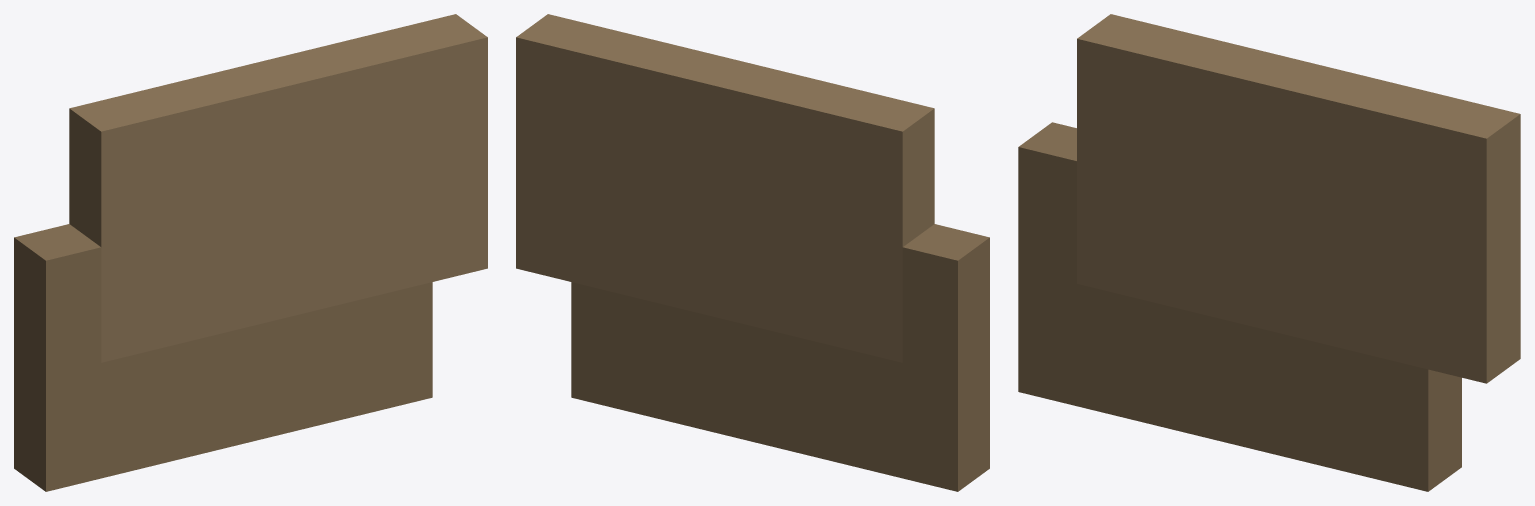
File: viga_vista_roble_grande_01.glb
The picture shows the model from 3 angles, left to right: view 1: azimuth 30°, elevation 25°; view 2: azimuth 150°, elevation 25°; view 3: azimuth 330°, elevation 25°; orthographic projection. The views are drawn at different scales.
Visible parts, largest first — view 1: viga_vista_roble_grande; view 2: viga_vista_roble_grande; view 3: viga_vista_roble_grande.
Part boxes in pixels (x1=…): viga_vista_roble_grande: x1=14, y1=14, x2=487, y2=491; viga_vista_roble_grande: x1=516, y1=14, x2=989, y2=491; viga_vista_roble_grande: x1=1018, y1=14, x2=1520, y2=491.
Bounding box in the file's own units: 0.7273 × 0.5455 × 0.0909.
